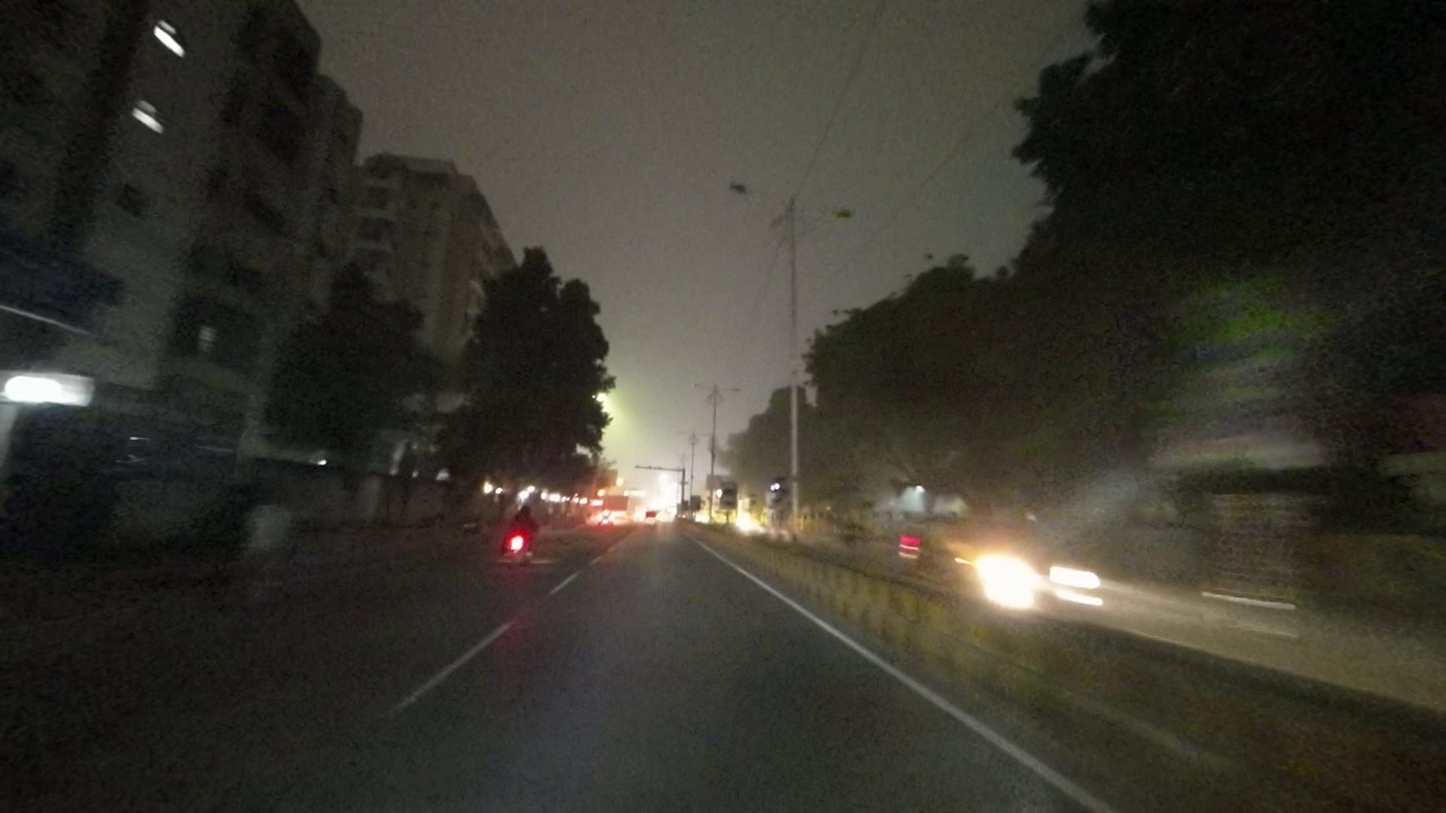streetlight: (728, 180, 788, 206), (799, 200, 861, 225)
